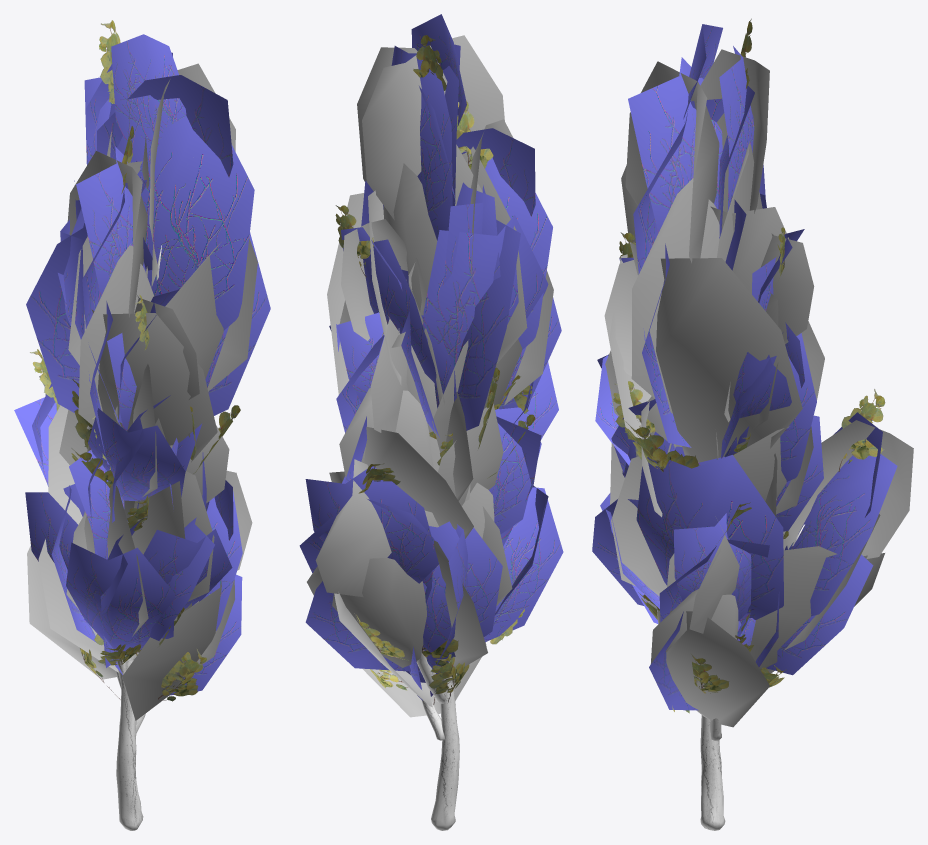
File: PoplarTree00h.fbx
3 renders of one model, left to right at view 1: azimuth 30°, elevation 25°; view 2: azimuth 150°, elevation 25°; view 3: azimuth 270°, elevation 25°, orthographic.
Parts seen in each view (by area): view 1: PoplarBranchA036, PoplarBranchB021, PoplarBranchA003, PoplarBranchC038, PoplarBranchA040, PoplarBranchB027, PoplarBranchA013, PoplarBranchA032, PoplarBranchA037, PoplarBranchB020, PoplarBranchB023, PoplarBranchB024 (+40 smaller); view 2: PoplarBranchA038, PoplarBranchB016, PoplarBranchB029, PoplarBranchA047, PoplarBranchA040, PoplarBranchB028, PoplarBranchA005, PoplarBranchA050, PoplarBranchA027, PoplarBranchB012, PoplarBranchB017, PoplarBranchB022 (+44 smaller); view 3: PoplarBranchB024, PoplarBranchA, PoplarBranchA046, PoplarBranchA037, PoplarBranchB027, PoplarBranchB023, PoplarBranchB022, PoplarBranchB028, PoplarBranchB030, PoplarBranchA042, PoplarBranchB016, PoplarBranchB005 (+37 smaller).
Boxes of the visible parts, left/top/right/bottom form: PoplarBranchA036: left=109, top=103, right=254, bottom=330; PoplarBranchB021: left=75, top=301, right=217, bottom=462; PoplarBranchA003: left=66, top=542, right=174, bottom=655; PoplarBranchC038: left=111, top=34, right=186, bottom=170; PoplarBranchA040: left=26, top=226, right=152, bottom=412; PoplarBranchB027: left=122, top=580, right=221, bottom=720; PoplarBranchA013: left=88, top=408, right=185, bottom=500; PoplarBranchA032: left=76, top=146, right=146, bottom=296; PoplarBranchA037: left=97, top=75, right=233, bottom=177; PoplarBranchB020: left=78, top=244, right=153, bottom=425; PoplarBranchB023: left=68, top=161, right=257, bottom=391; PoplarBranchB024: left=114, top=242, right=223, bottom=422; PoplarBranchA038: left=422, top=215, right=548, bottom=368; PoplarBranchB016: left=362, top=45, right=447, bottom=220; PoplarBranchB029: left=307, top=510, right=438, bottom=667; PoplarBranchA047: left=305, top=466, right=438, bottom=583; PoplarBranchA040: left=457, top=220, right=520, bottom=430; PoplarBranchB028: left=315, top=459, right=391, bottom=597; PoplarBranchA005: left=483, top=487, right=563, bottom=641; PoplarBranchA050: left=423, top=521, right=502, bottom=668; PoplarBranchA027: left=391, top=46, right=452, bottom=240; PoplarBranchB012: left=364, top=426, right=473, bottom=538; PoplarBranchB017: left=383, top=144, right=482, bottom=311; PoplarBranchB022: left=357, top=35, right=504, bottom=181; PoplarBranchB024: left=630, top=242, right=802, bottom=462; PoplarBranchA: left=636, top=455, right=783, bottom=619; PoplarBranchA046: left=785, top=454, right=897, bottom=616; PoplarBranchA037: left=628, top=57, right=722, bottom=232; PoplarBranchB027: left=641, top=597, right=769, bottom=727; PoplarBranchB023: left=631, top=178, right=719, bottom=413; PoplarBranchB022: left=625, top=61, right=719, bottom=263; PoplarBranchB028: left=776, top=420, right=913, bottom=558; PoplarBranchB030: left=750, top=546, right=884, bottom=673; PoplarBranchA042: left=674, top=513, right=751, bottom=620; PoplarBranchB016: left=700, top=49, right=769, bottom=213; PoplarBranchB005: left=611, top=456, right=666, bottom=596.
Bounding box in the file's own units: 836 × 3265 × 1169.
